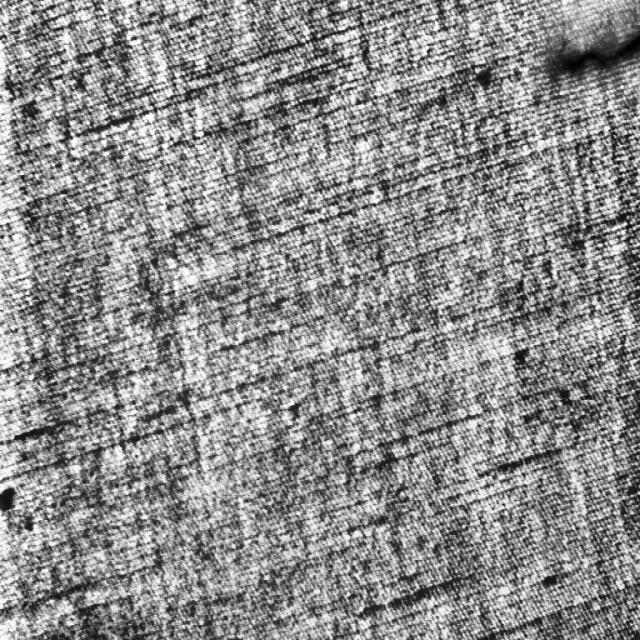Stitch: (557, 26, 639, 80)
